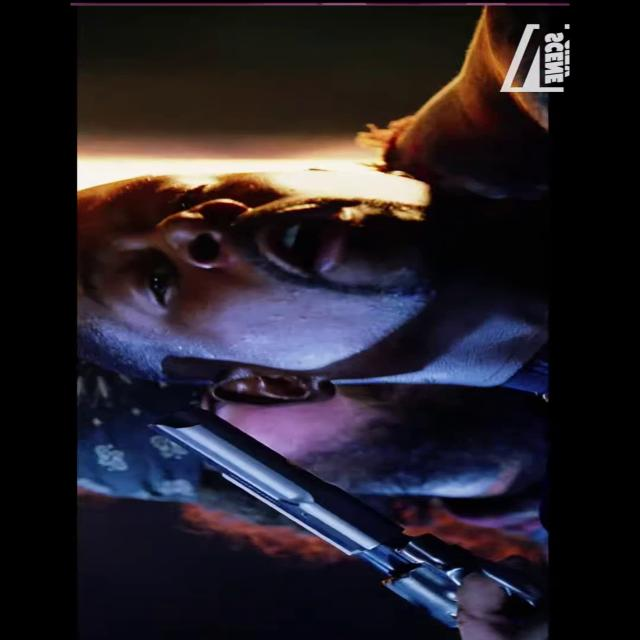weapons: (138, 404, 536, 632)
